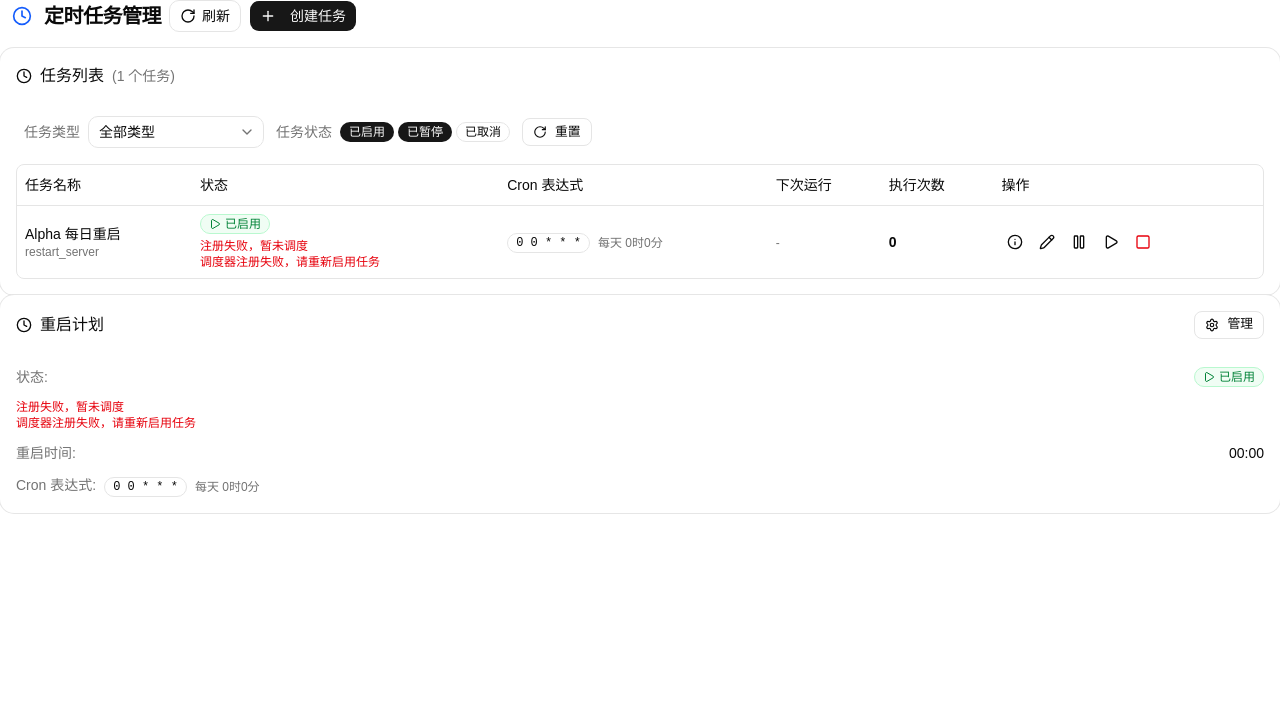
Test: keeps an active failed schedule visible, retries registration, and refreshes the server card
Expected: the text "Alpha 每日重启" is shown, [25,226,121,242]
Expected: the text "注册失败，暂未调度" is shown 2 times, [200,238,308,252]; [16,400,124,414]
Click the button titled "重新启用" at (1112, 242), box [1098,228,1126,256]
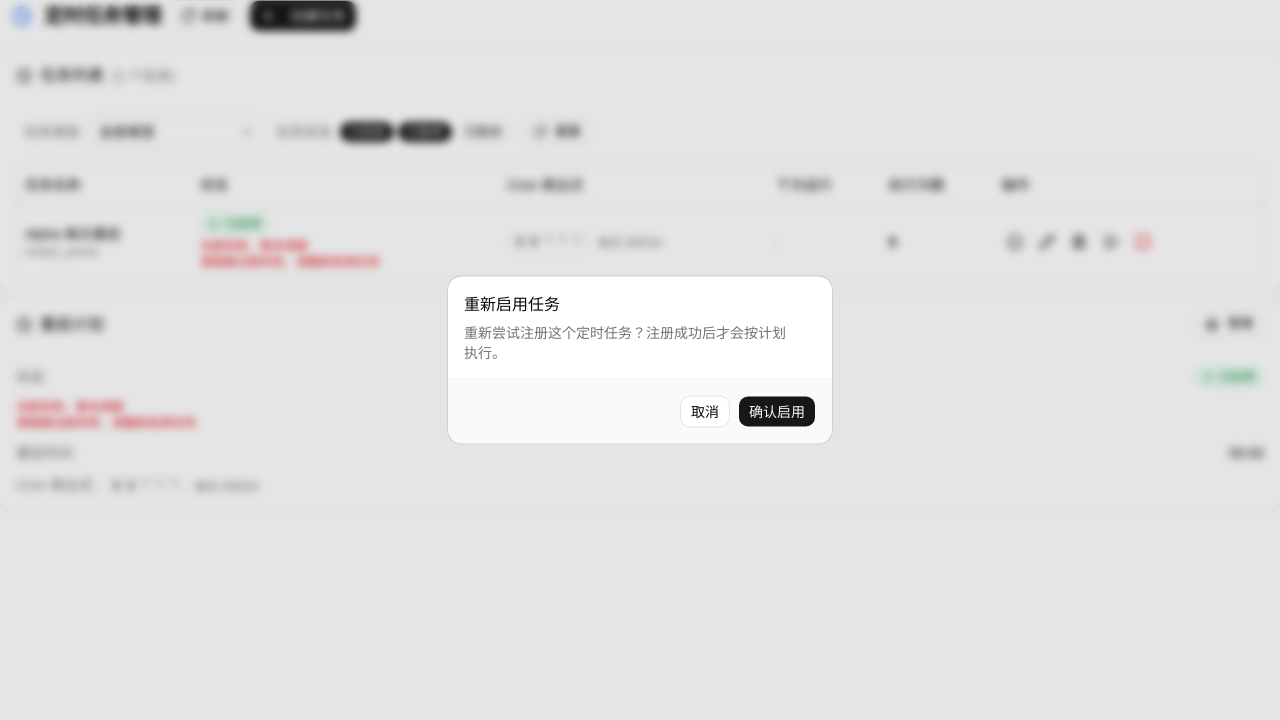
Click the button "确认启用" at (777, 412), box [738,396,816,428]
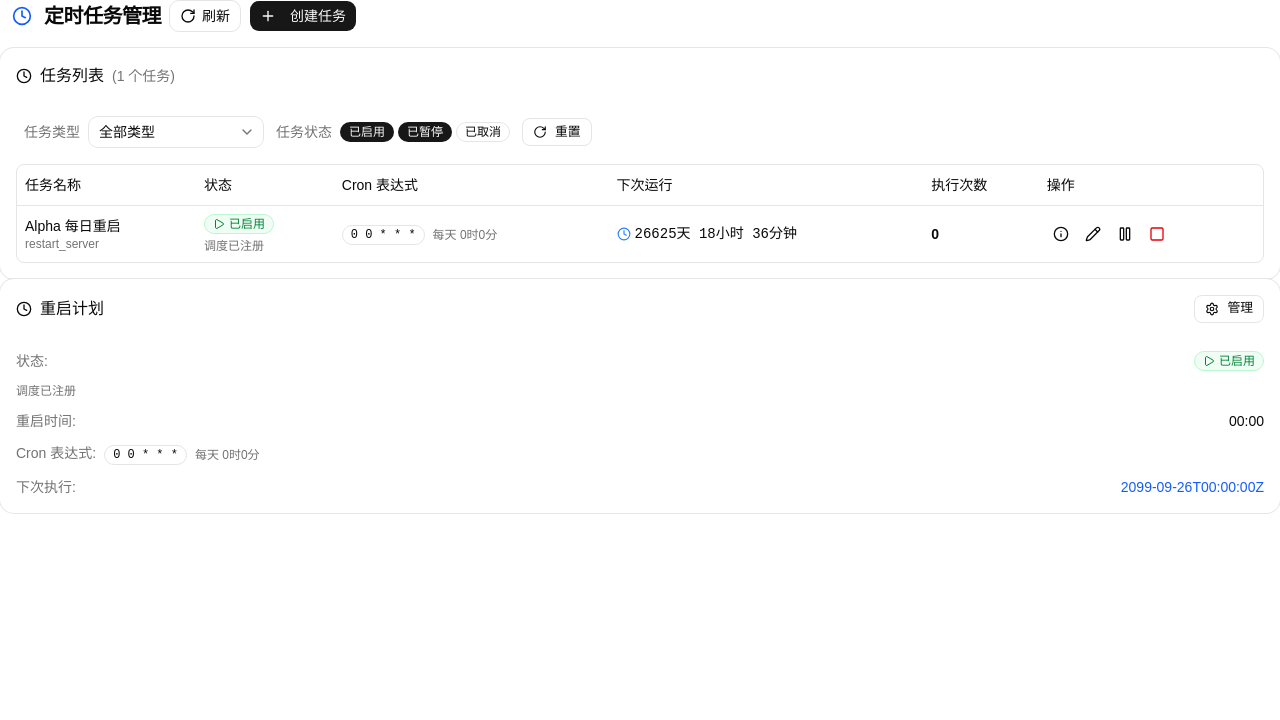
Expected: the text "调度已注册" is shown 2 times, [204,238,264,252]; [16,384,76,398]
Now the text titled "重新启用" is gone
Now the text "下次执行:" is shown, box [16,476,76,496]
